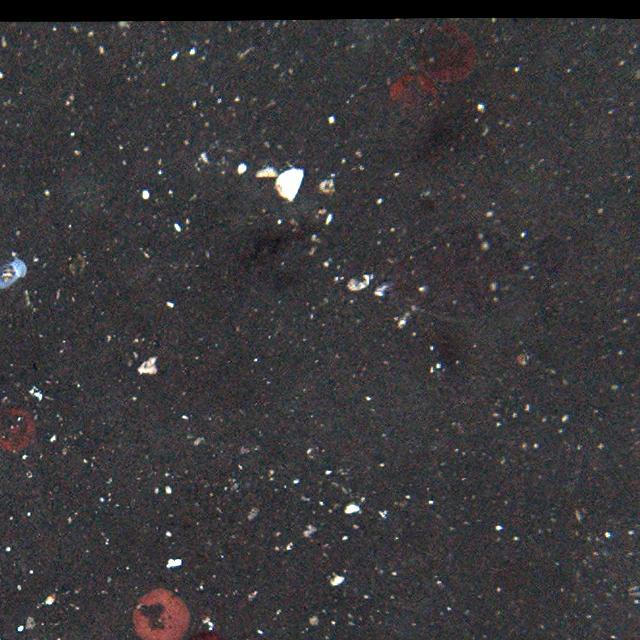flatfish: (384, 216, 570, 330)
